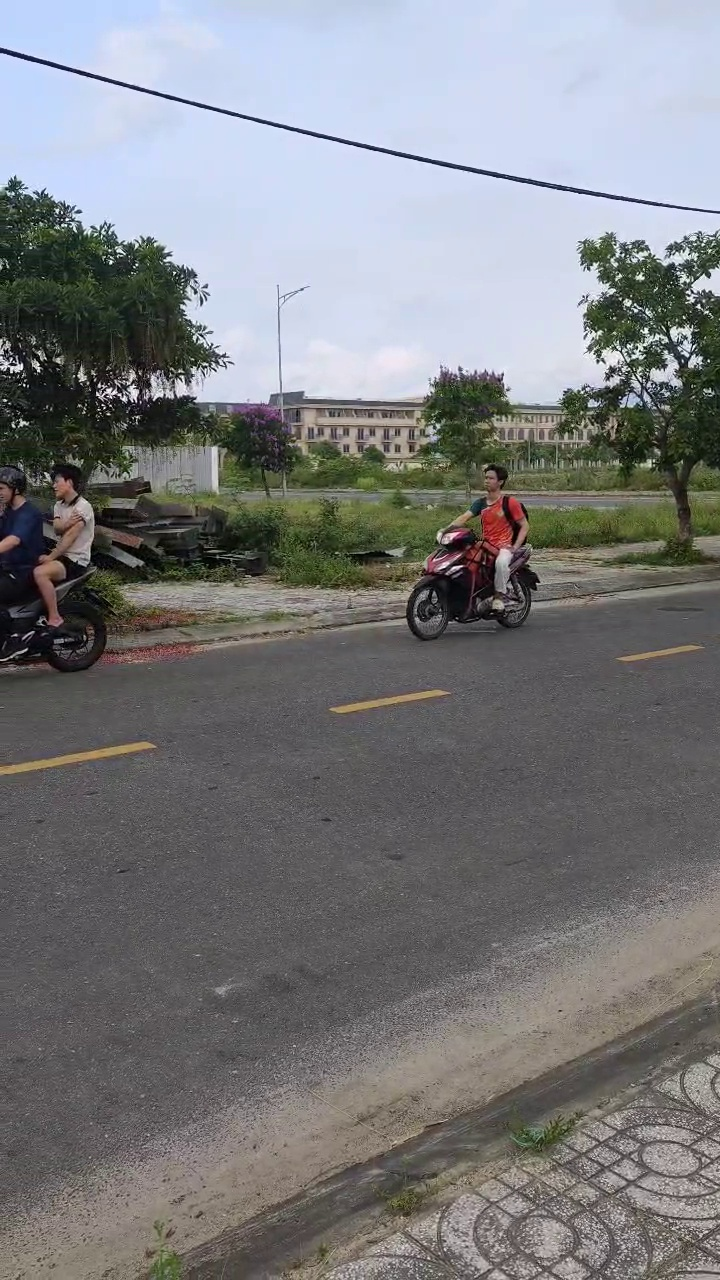helmet: (2, 465, 30, 517)
no_helmet: (51, 461, 89, 514), (482, 461, 507, 505)
